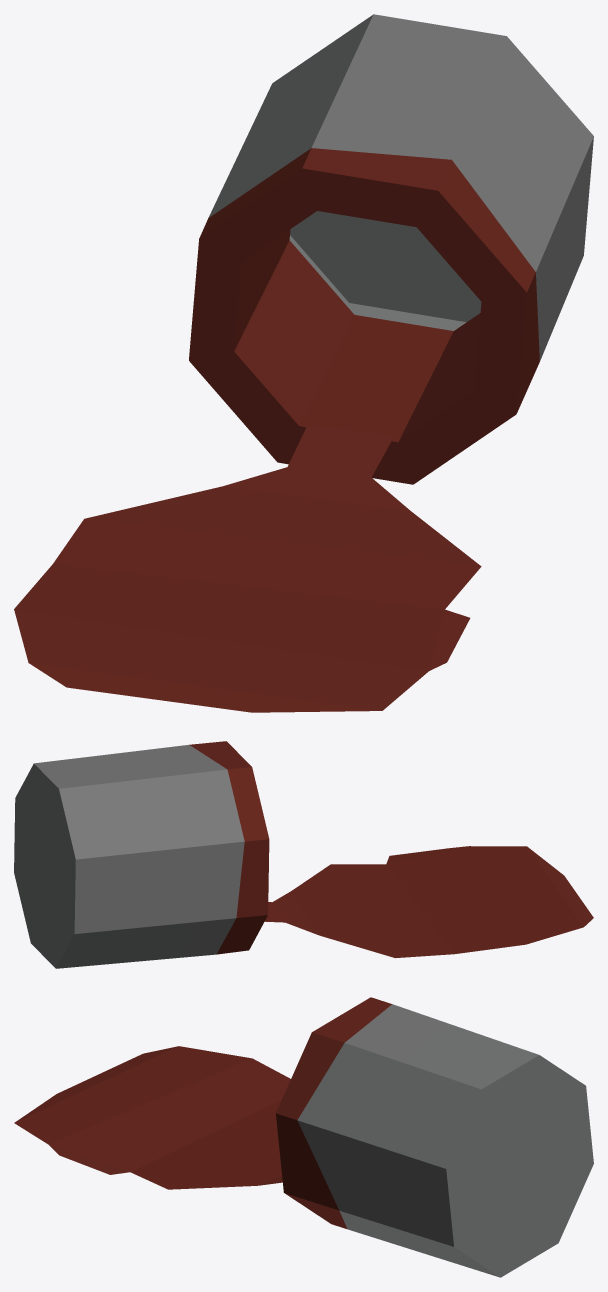
The model's file is thungson2.fbx.
The picture shows the model from 3 angles, top to bottom: view 1: azimuth 30°, elevation 25°; view 2: azimuth 150°, elevation 25°; view 3: azimuth 270°, elevation 25°; orthographic projection. The views are drawn at different scales.
Visible parts, largest first — view 1: thungson2; view 2: thungson2; view 3: thungson2.
Boxes of the visible parts, x1=… form: thungson2: x1=14, y1=14, x2=593, y2=712; thungson2: x1=14, y1=741, x2=593, y2=968; thungson2: x1=14, y1=997, x2=593, y2=1277.
Bounding box in the file's own units: 148 × 58.89 × 149.
